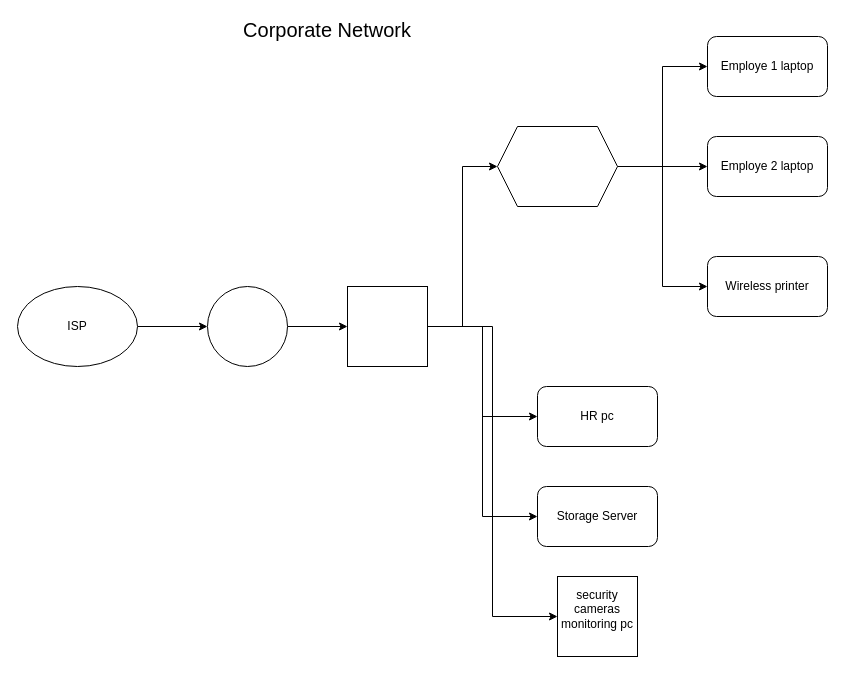
Some shapes in this 845 by 674 pixel diagram are drawn without their labels. Each missing label, with the centre of its shape:
"Access Point" goes at (557,166).
"Company Router" goes at (247,326).
"Switch" goes at (387,326).
